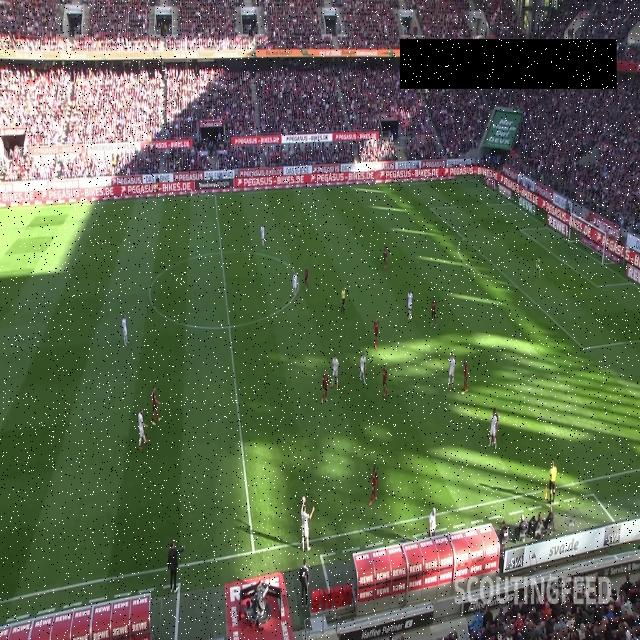Ball: (302, 496, 306, 504)
GoalKeeper: (533, 256, 541, 278)
Referee: (544, 459, 557, 506), (340, 287, 347, 314), (155, 182, 159, 199)
TEAM 1: (151, 385, 162, 425), (369, 467, 378, 507), (381, 364, 389, 398), (373, 317, 381, 350), (321, 370, 329, 402), (462, 361, 468, 396), (431, 298, 438, 326), (303, 267, 309, 293), (492, 406, 498, 424), (383, 247, 387, 271)
TEAM 2: (301, 502, 315, 551), (137, 408, 149, 450), (488, 411, 498, 449), (447, 354, 456, 388), (331, 355, 339, 391), (359, 353, 367, 386), (406, 290, 414, 320), (122, 314, 129, 348), (292, 271, 298, 298), (260, 224, 266, 247)
